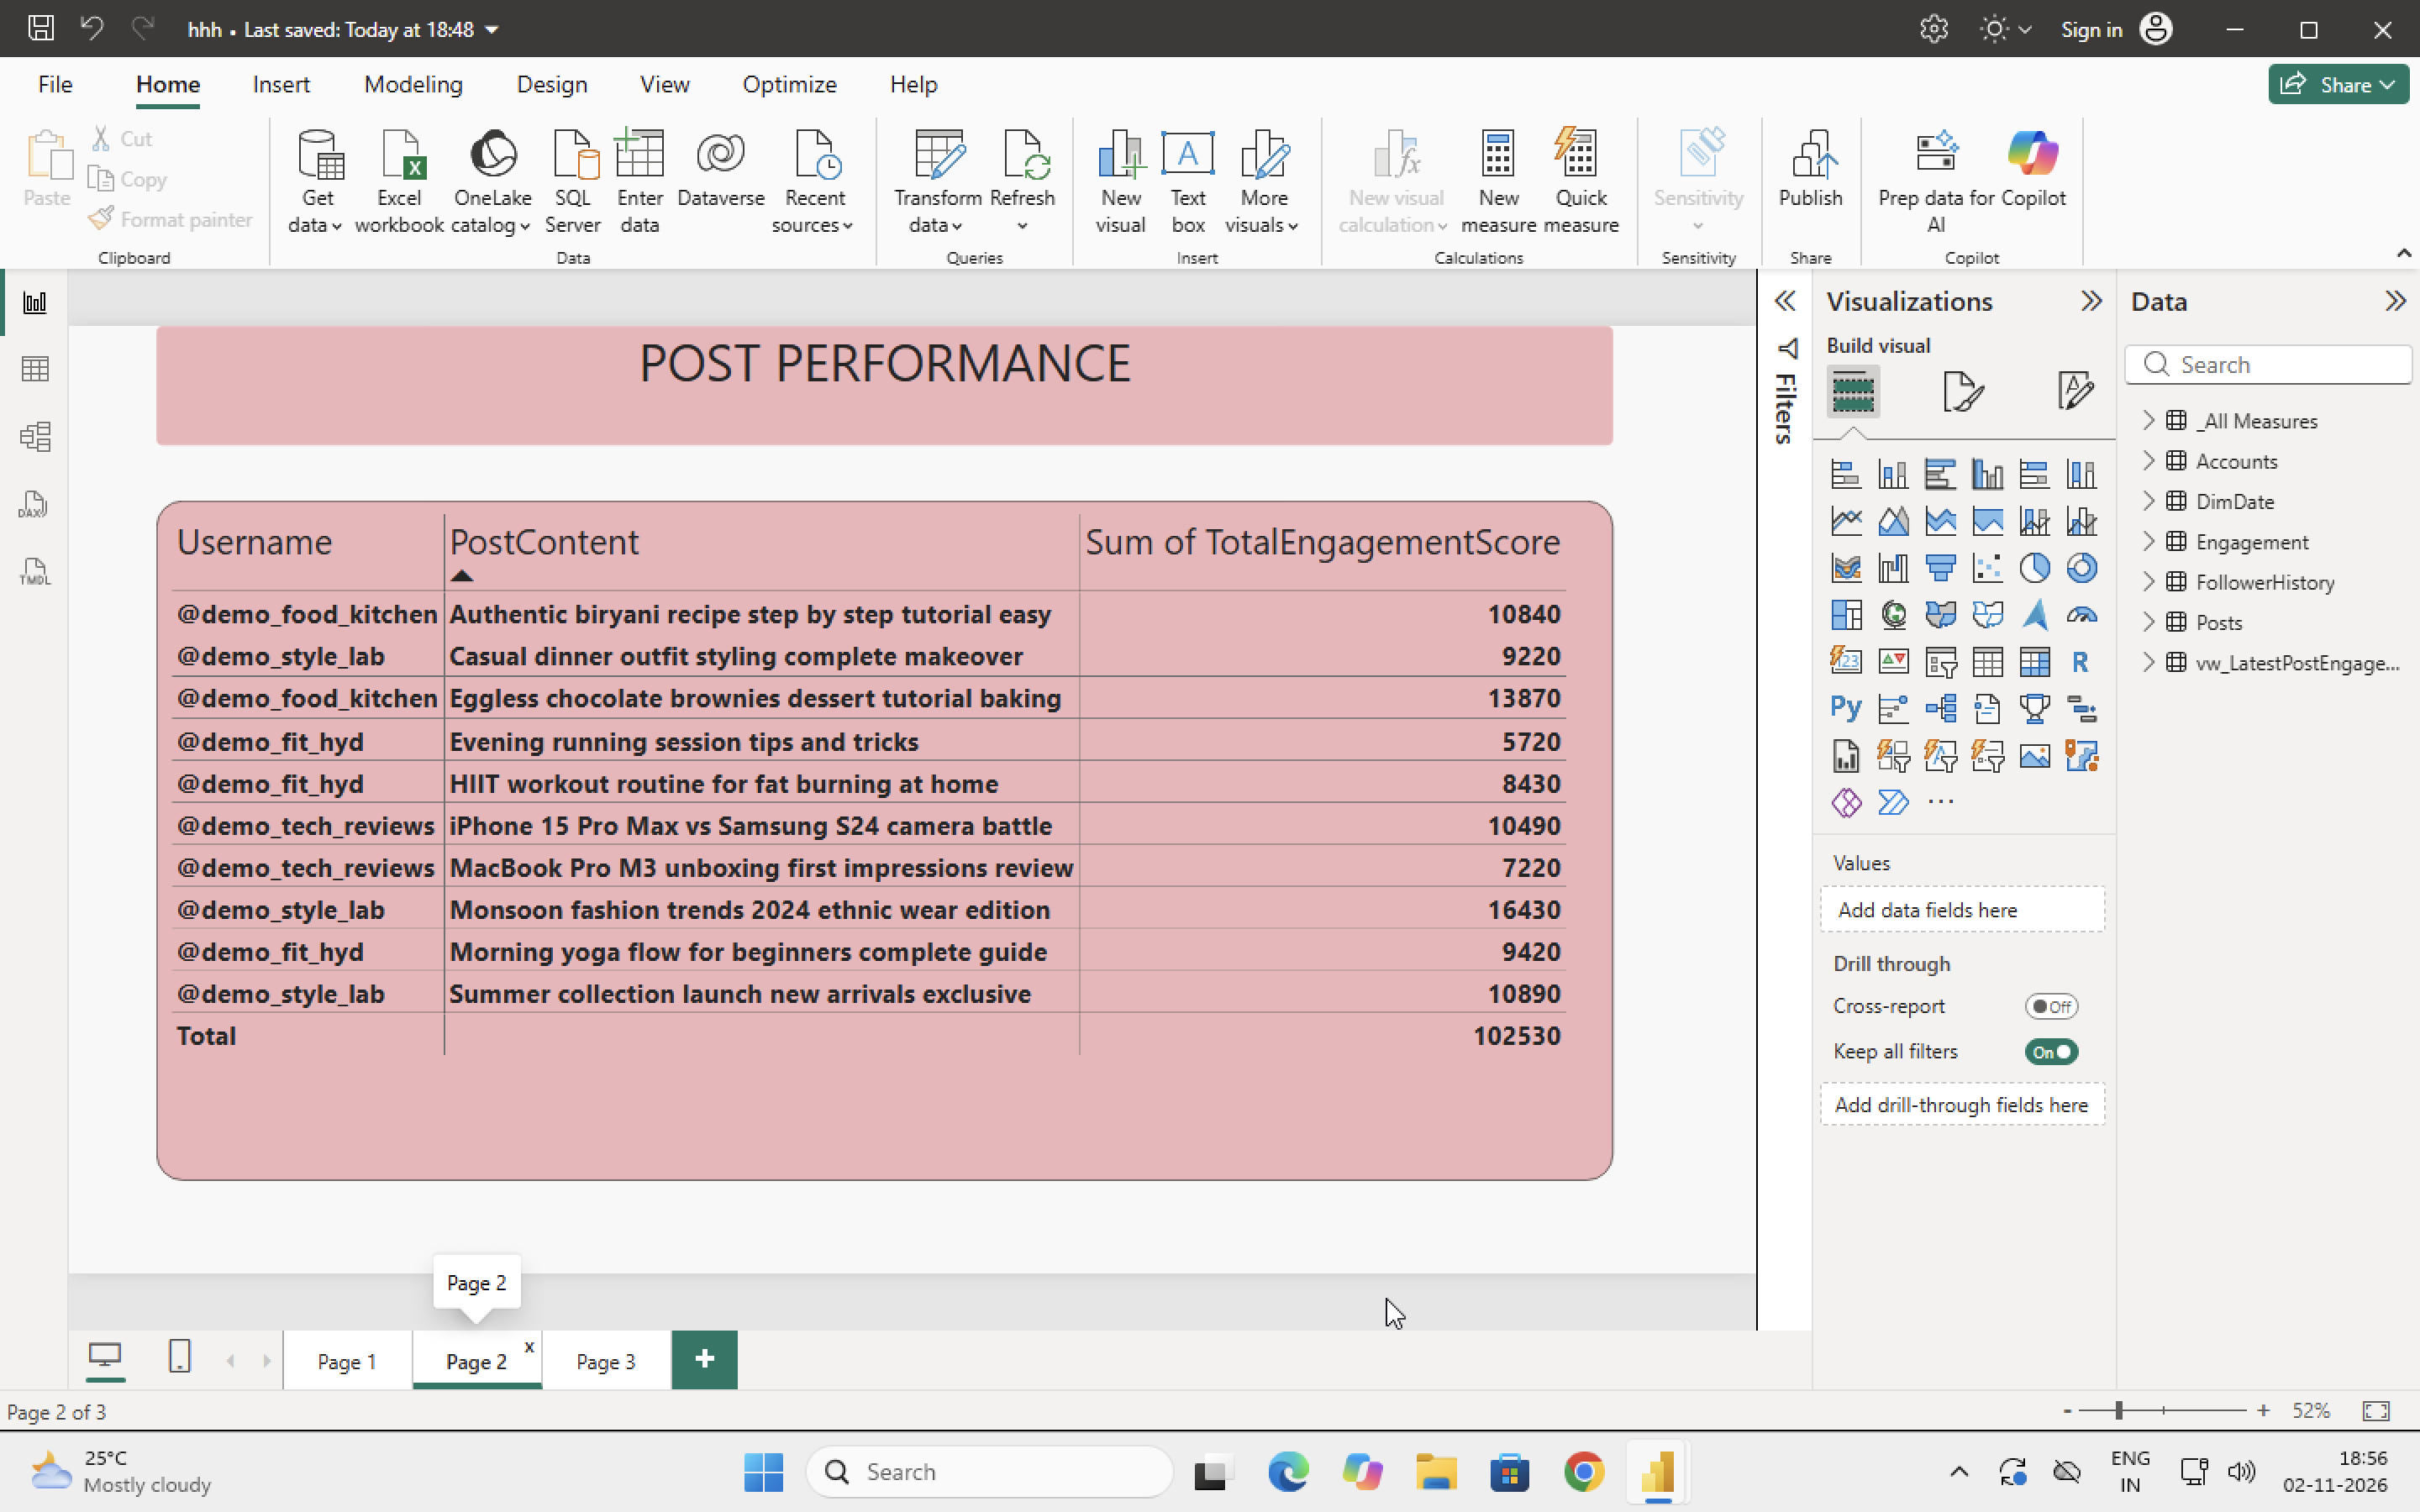

The dashboard page shown, as its layout file describes it:
{"tool":"powerbi","page":{"name":"Page 2","canvas":[1920,1080],"ordinal":1},"visuals":[{"type":"tableEx","fields":{"Values":["vw_LatestPostEngagement.Username","vw_LatestPostEngagement.PostContent","Sum(vw_LatestPostEngagement.TotalEngagementScore)"]},"box":[98.8,199.8,1658.2,774],"z":0},{"type":"textbox","box":[98.8,500.7,1465.3,277.9],"z":1000},{"type":"textbox","box":[99.4,0,1658,135.8],"z":2000}]}

Visuals, with their boxes on the page's 1920x1080 design canvas (x1, y1, x2, y2). These are canvas units, not pixel positions in the 2420x1512 screenshot, which may show the page scaled, cropped or inside an application window:
tableEx - vw_LatestPostEngagement.Username x vw_LatestPostEngagement.PostContent: bbox(99, 200, 1757, 974)
textbox: bbox(99, 501, 1564, 779)
textbox: bbox(99, 0, 1757, 136)
